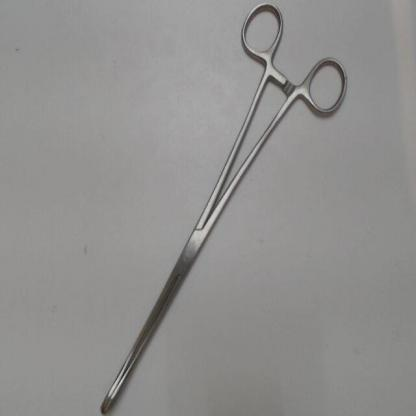Sponge Forceps: (91, 0, 357, 415)
